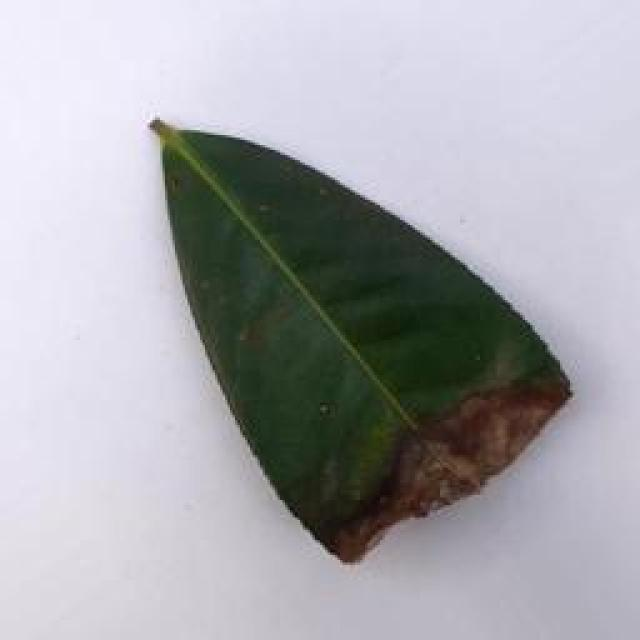Brown Blight: (110, 101, 596, 573)
